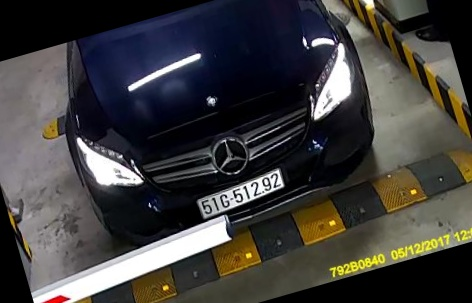plate: (194, 165, 290, 221)
